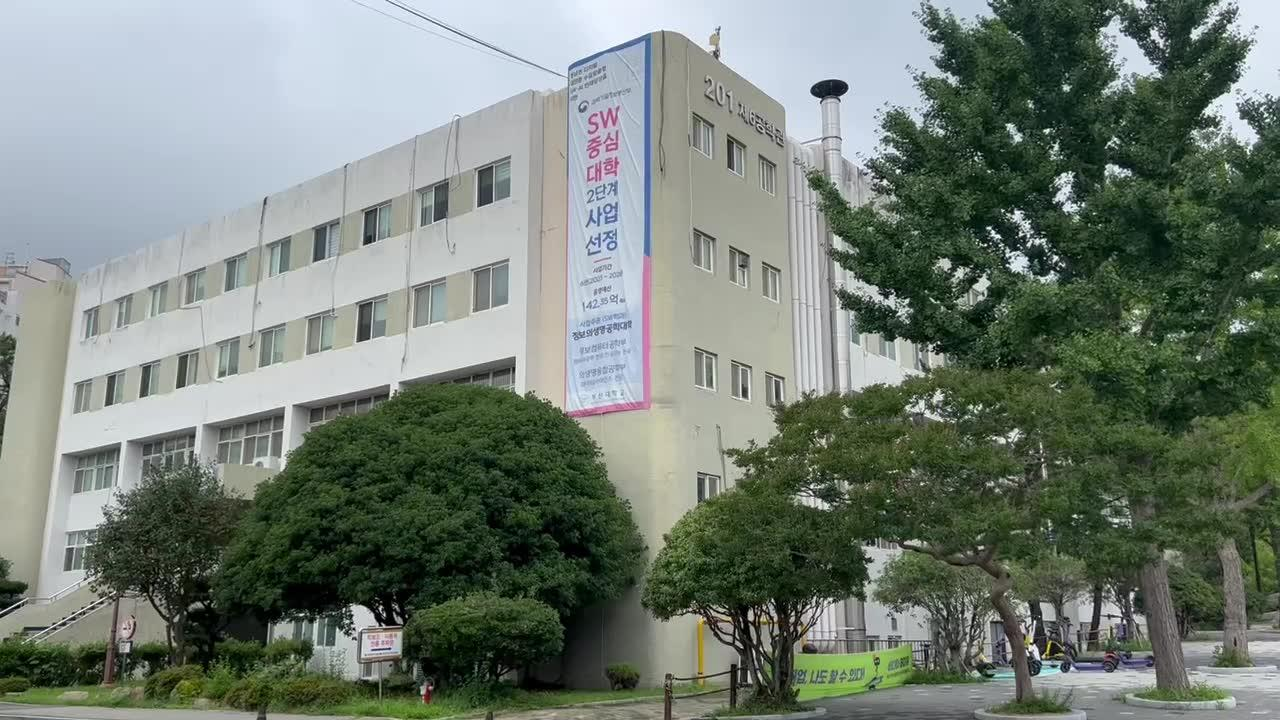building: (26, 39, 818, 408)
